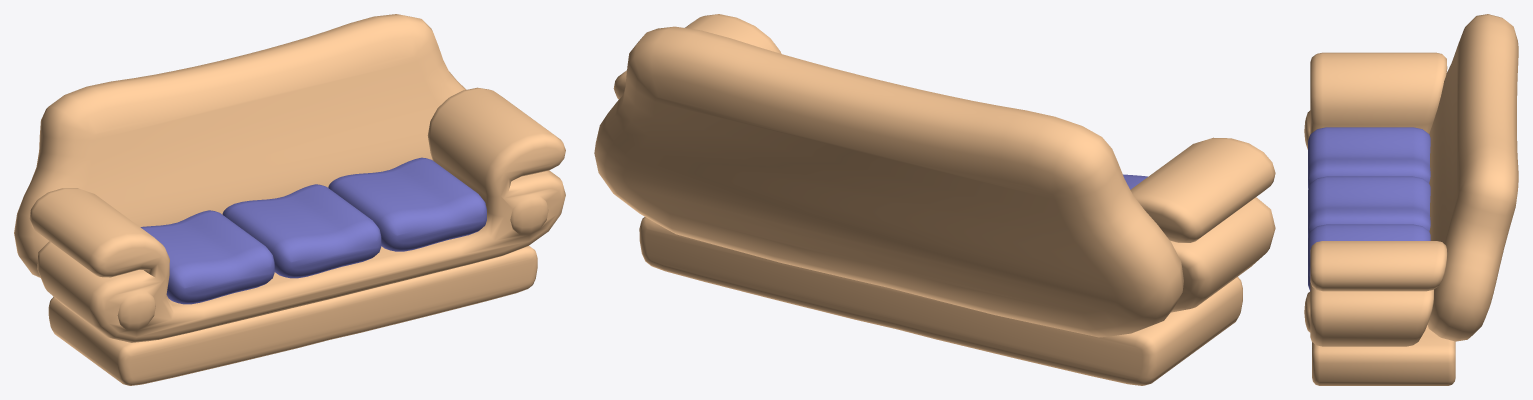
The model's file is sofa.dae.
The picture shows the model from 3 angles, left to right: view 1: azimuth 30°, elevation 25°; view 2: azimuth 150°, elevation 25°; view 3: azimuth 270°, elevation 25°; orthographic projection. The views are drawn at different scales.
Visible parts, largest first — view 1: sofa.dxf; view 2: sofa.dxf; view 3: sofa.dxf.
Part boxes in pixels (left/top/right/bottom): sofa.dxf: left=14, top=14, right=565, bottom=385; sofa.dxf: left=594, top=14, right=1275, bottom=385; sofa.dxf: left=1304, top=14, right=1518, bottom=385.
Size of the model in its own units: 2.17 by 0.8999 by 0.9638.
